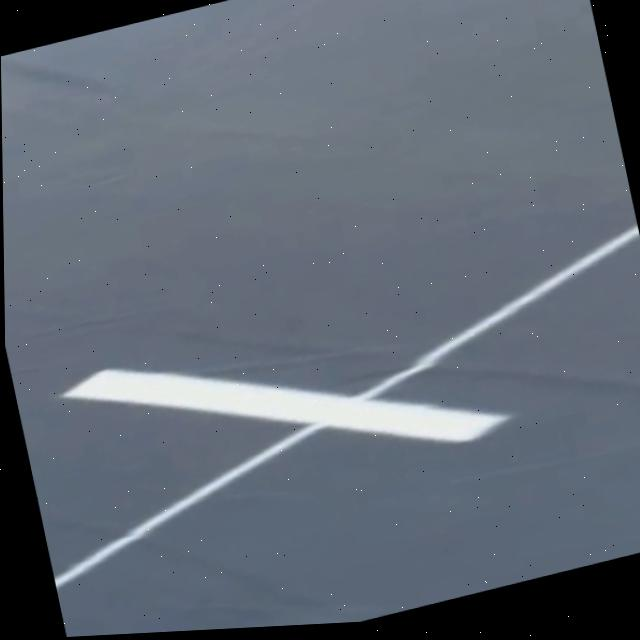center: (57, 368, 499, 444)
